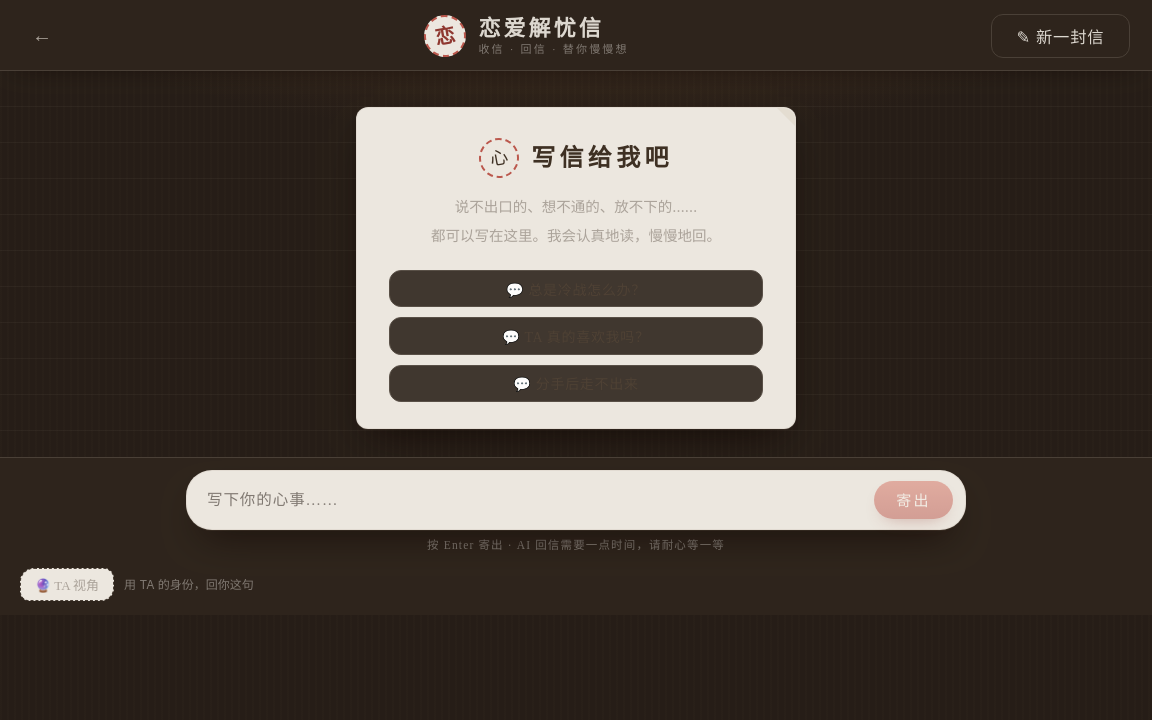
Test case: LoveChat：发送与占位（phase17 契约） › 发送：用户气泡出现、输入框清空、进入 loading
Type "他总是冷战" into the field with class "chat-input".
click(536, 500); type("他总是冷战")  # box [207, 491, 866, 509]
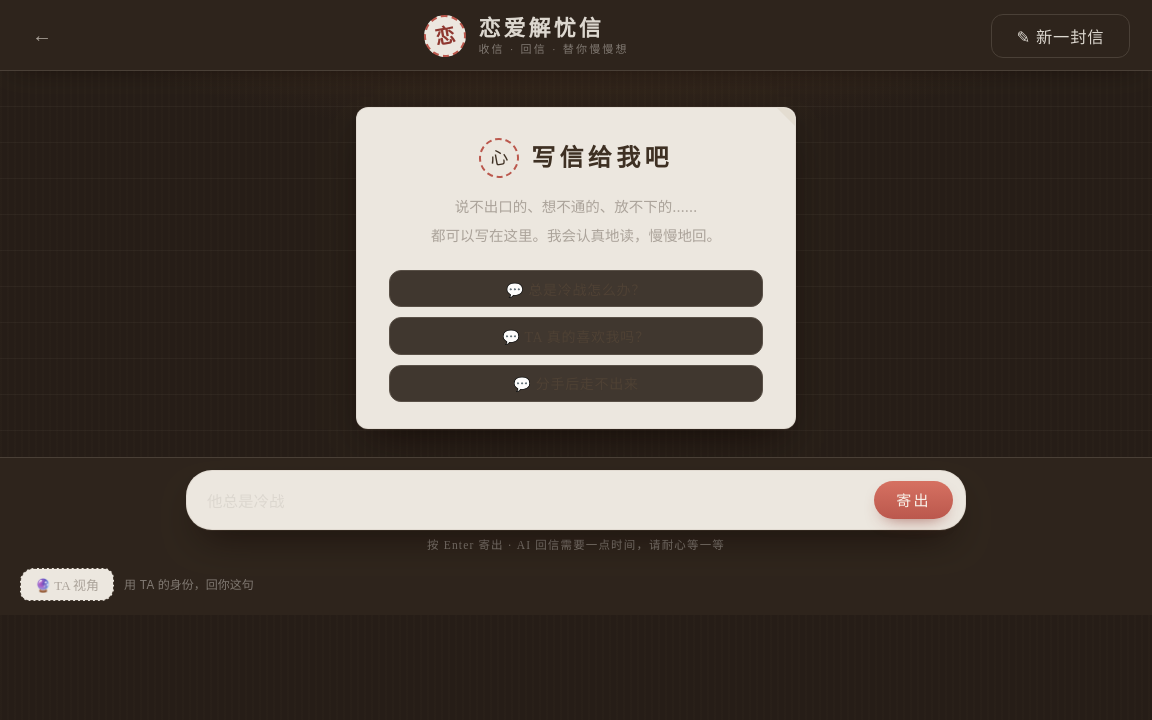
Click the button with class "send-btn".
click(913, 500)  # box [874, 481, 953, 519]
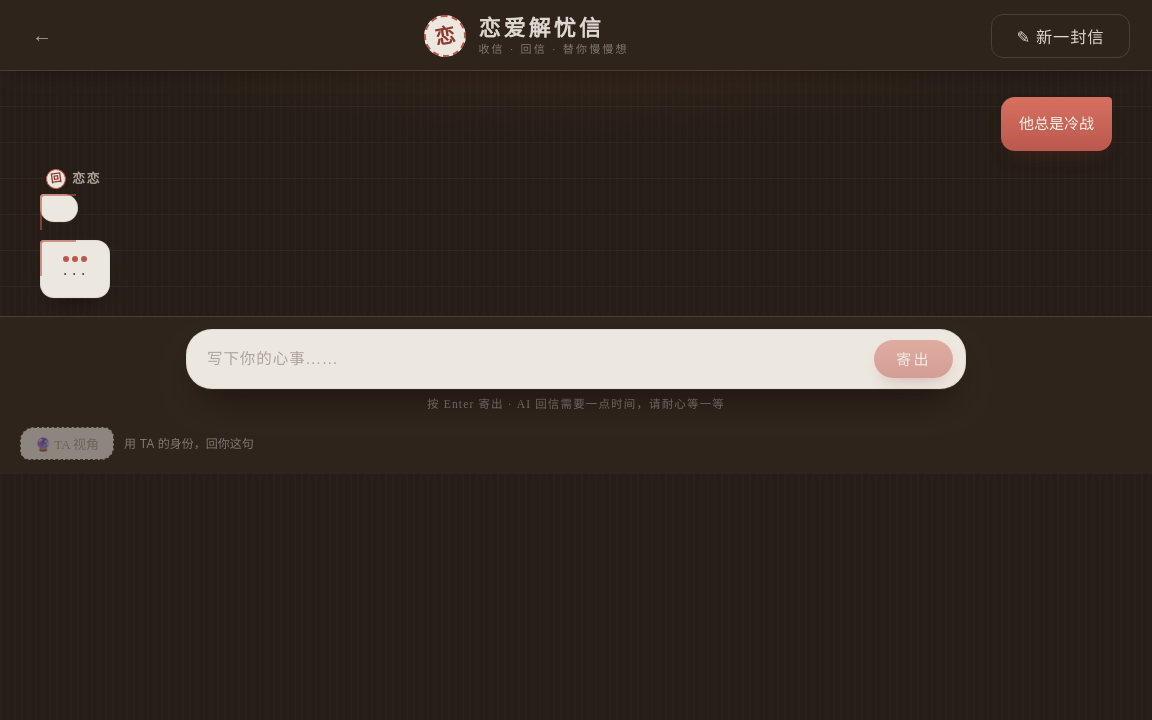
Expected: the text with class "message-content" reads "他总是冷战", [1019, 114, 1094, 133]
Expected: the field with class "chat-input" is empty, [207, 350, 866, 368]
Expected: the element with class "message-ai" showing "回 恋恋" is shown, [40, 169, 101, 222]
